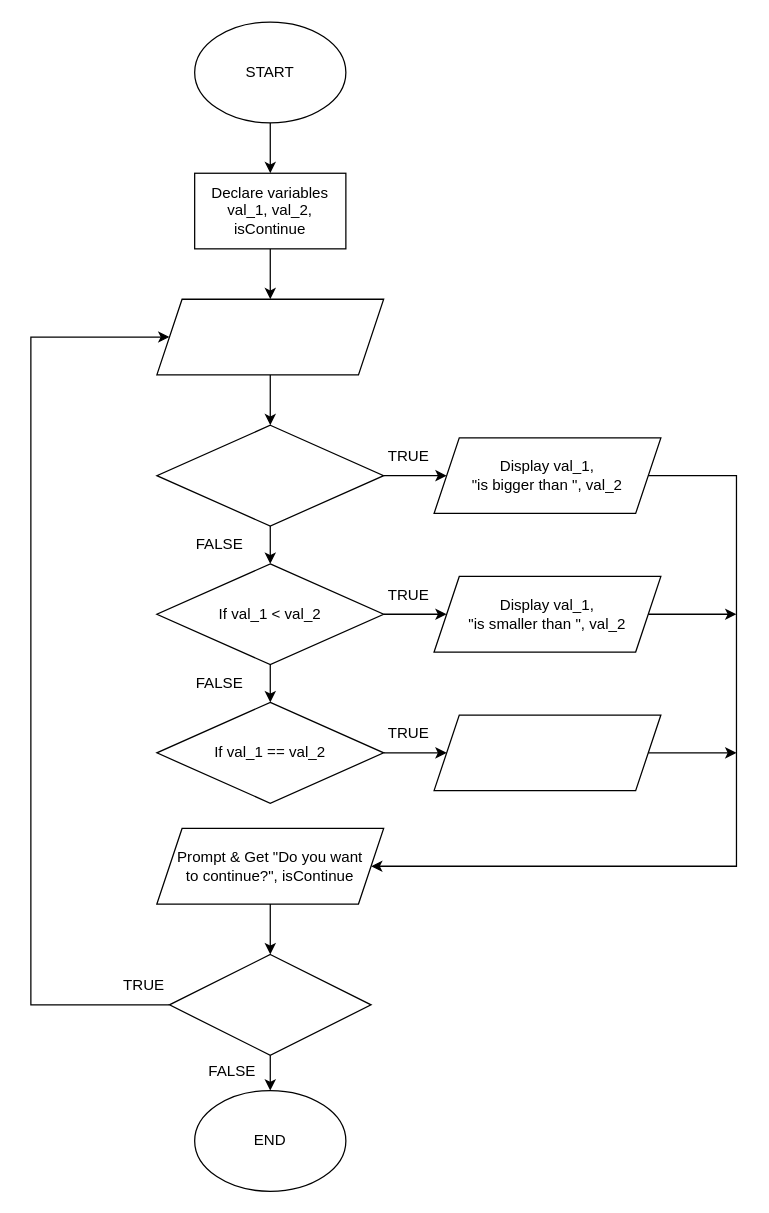
Some shapes in this 769 by 1213 pixel diagram are drawn without their labels. The shapes that lost their labels are listed below. From the top down, each one's box as (x1, y1, x2, y2) in pixels, then its label:
(156, 298, 384, 375): Prompt & Get val_1, val_2
(156, 424, 384, 526): If val_1 > val_2
(433, 714, 661, 791): Display val_1, "is equal to ", val_2
(168, 953, 371, 1055): If isContinue == "Yes"
